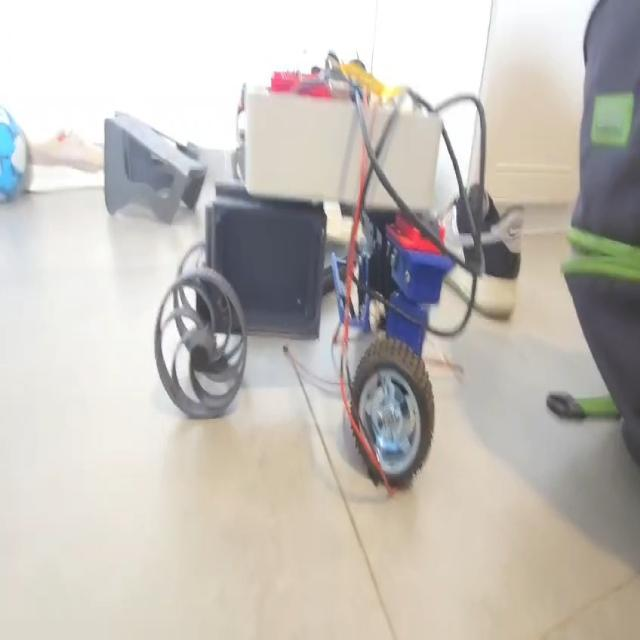Robot: (154, 52, 458, 494)
